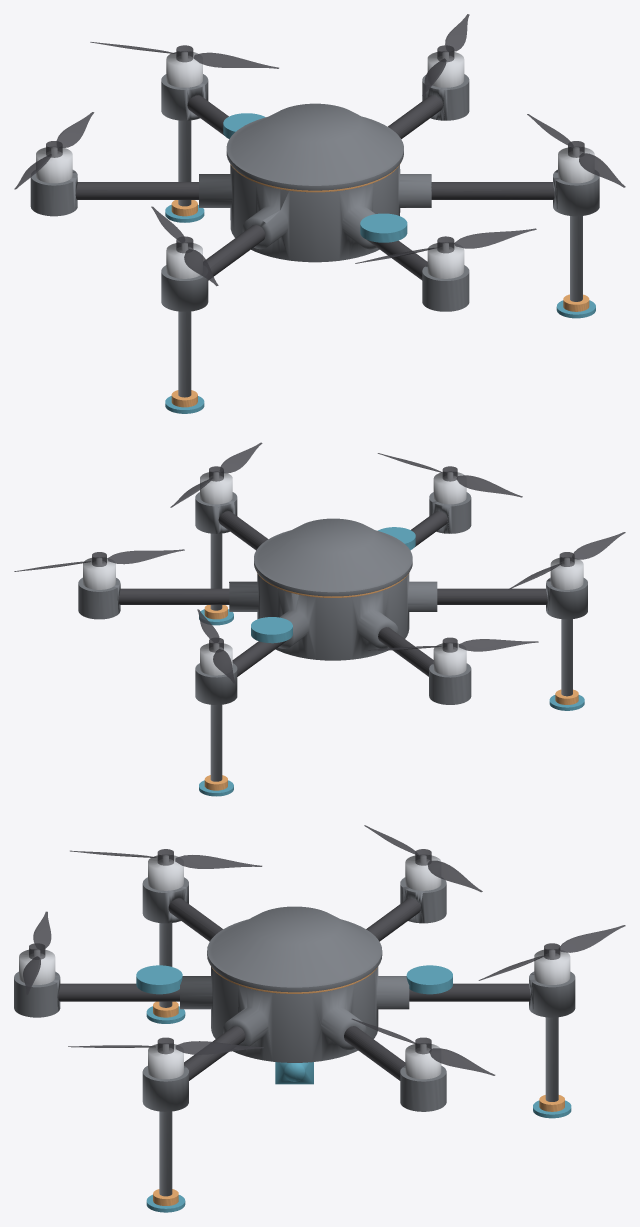
File: tiphys.glb
3 views of the same model, one above another, from view 1: azimuth 30°, elevation 25°; view 2: azimuth 150°, elevation 25°; view 3: azimuth 270°, elevation 25° (orthographic). The views are drawn at different scales.
Parts seen in each view (by area): view 1: Tiphys V1; view 2: Tiphys V1; view 3: Tiphys V1.
Boxes of the visible parts, x1,y1,x2,y2 form: Tiphys V1: [14, 14, 625, 413]; Tiphys V1: [14, 442, 625, 796]; Tiphys V1: [14, 825, 625, 1212].
Bounding box in the file's own units: 0.4606 × 0.1582 × 0.4753.
